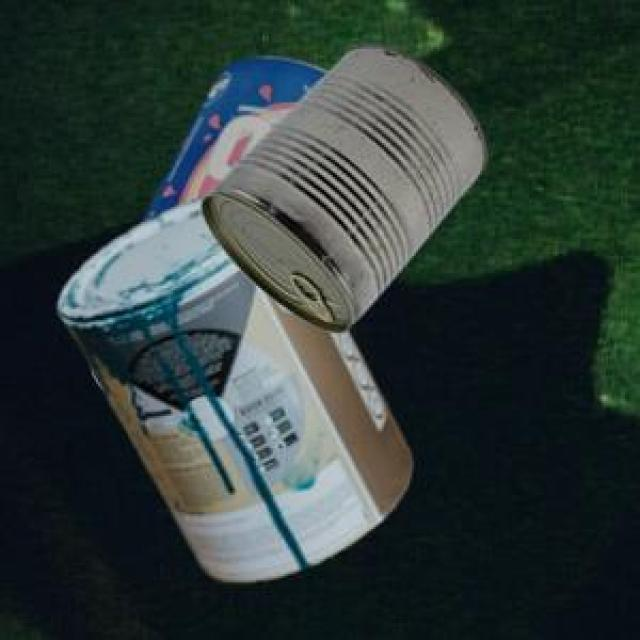logam: (54, 195, 409, 579), (199, 39, 483, 330), (140, 54, 323, 219)
